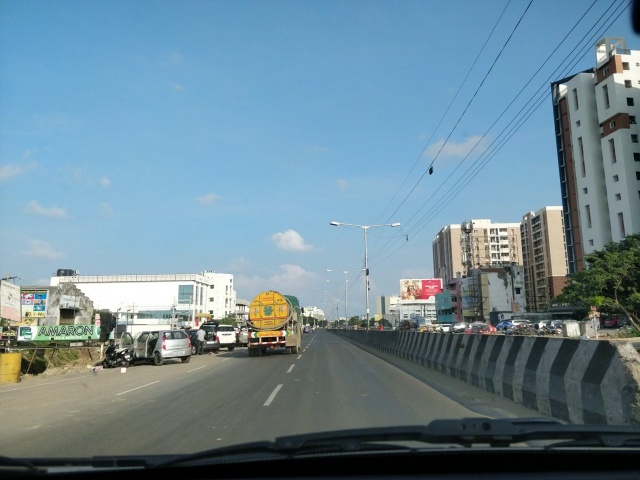car: (130, 329, 190, 363), (221, 326, 232, 348)
motorbike: (104, 343, 127, 365)
person: (195, 320, 205, 354)
truck: (252, 293, 298, 352)
